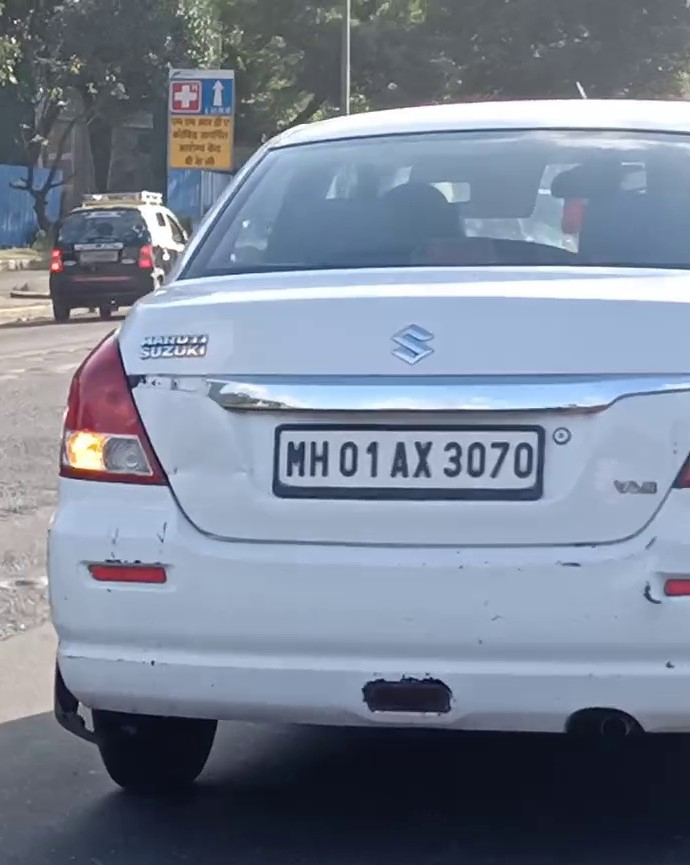MH01AX3070: (275, 427, 538, 487)
